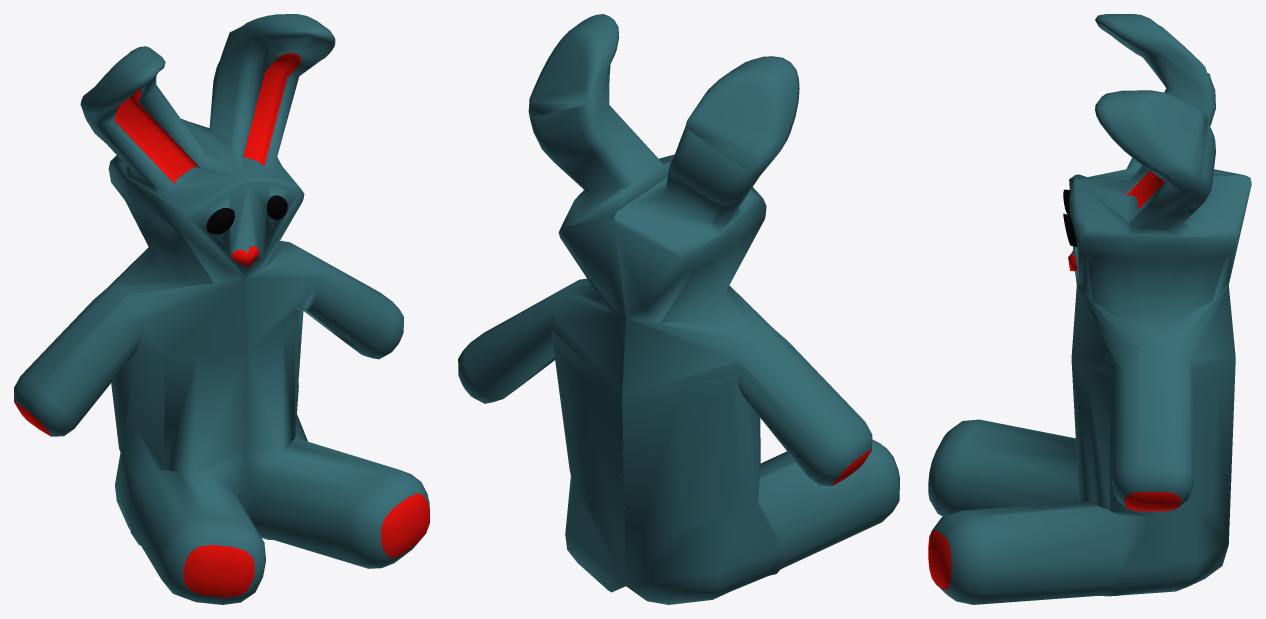
The model's file is StuffedAnimal.fbx.
3 views of the same model, side by side, from view 1: azimuth 30°, elevation 25°; view 2: azimuth 150°, elevation 25°; view 3: azimuth 270°, elevation 25° (orthographic). The views are drawn at different scales.
Visible parts, largest first — view 1: Cube; view 2: Cube; view 3: Cube.
Part boxes in pixels (x1=…): Cube: x1=14, y1=14, x2=429, y2=604; Cube: x1=458, y1=14, x2=899, y2=604; Cube: x1=928, y1=14, x2=1251, y2=604.
Bounding box in the file's own units: 582 × 740 × 426.
